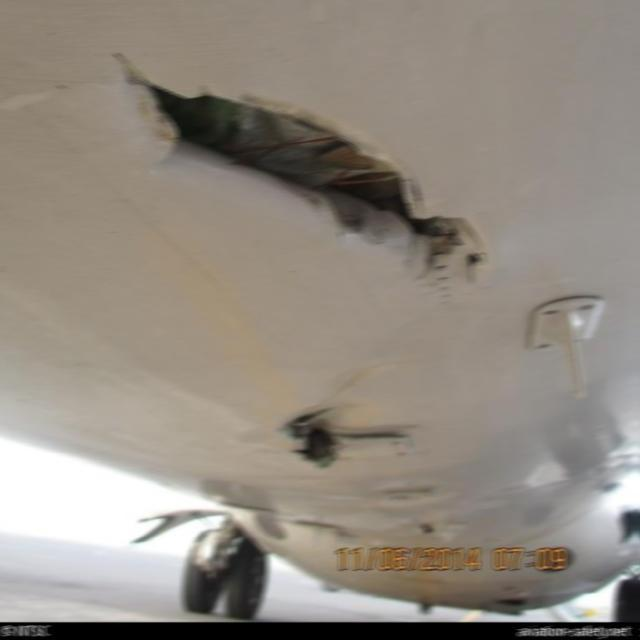crack: (118, 54, 490, 290)
